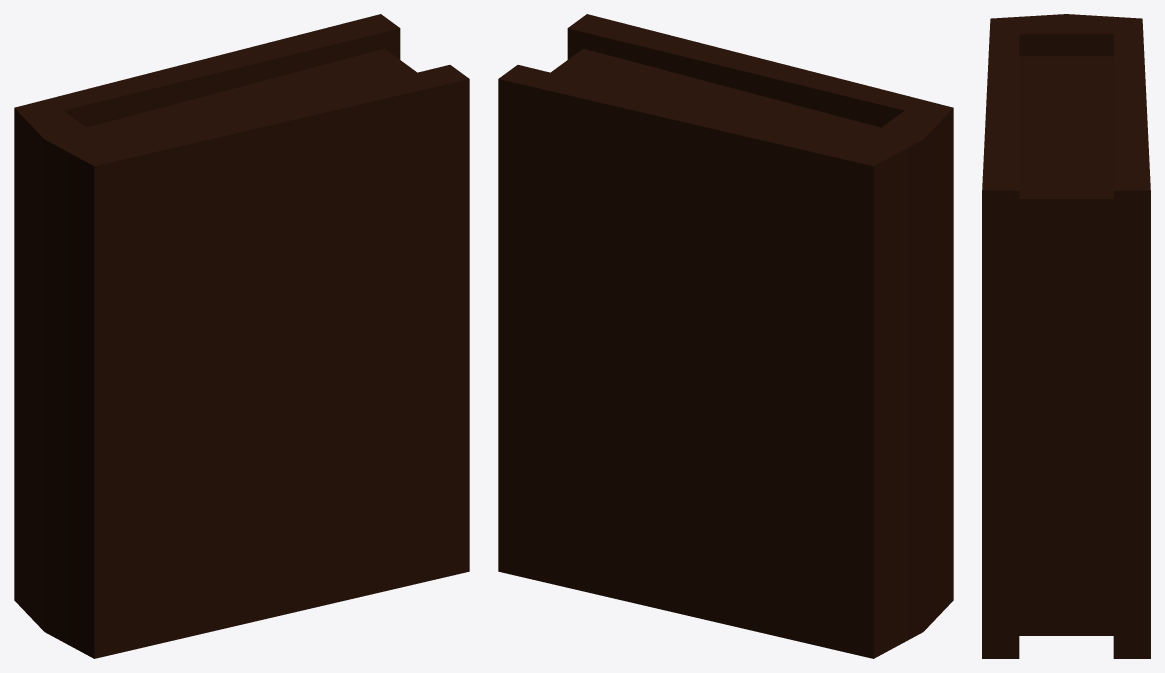
File: SM_Book.FBX
The picture shows the model from 3 angles, left to right: view 1: azimuth 30°, elevation 25°; view 2: azimuth 150°, elevation 25°; view 3: azimuth 270°, elevation 25°; orthographic projection. The views are drawn at different scales.
Visible parts, largest first — view 1: Book; view 2: Book; view 3: Book.
Boxes of the visible parts, x1,y1,x2,y2 form: Book: (14, 14, 469, 658); Book: (498, 14, 953, 658); Book: (982, 14, 1150, 658).
Size of the model in its own units: 42.23 by 52.21 by 17.05.
